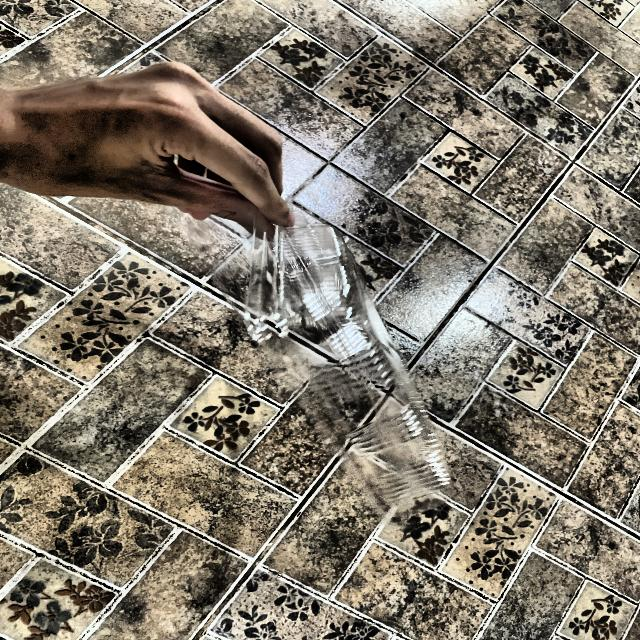plastic container: (253, 211, 452, 514)
